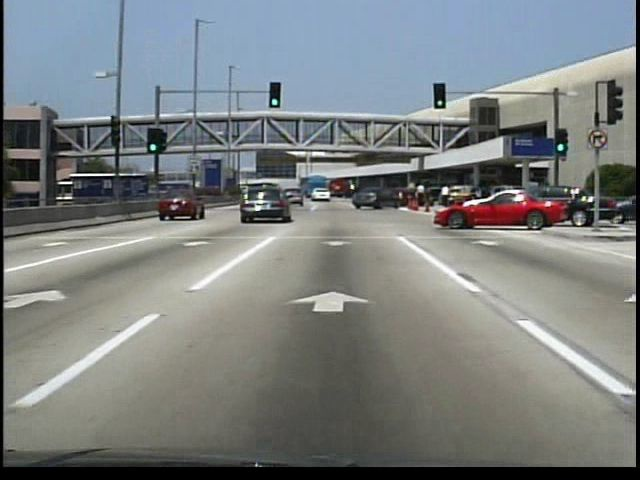person: (414, 180, 430, 210), (440, 186, 454, 210), (224, 130, 232, 146)
